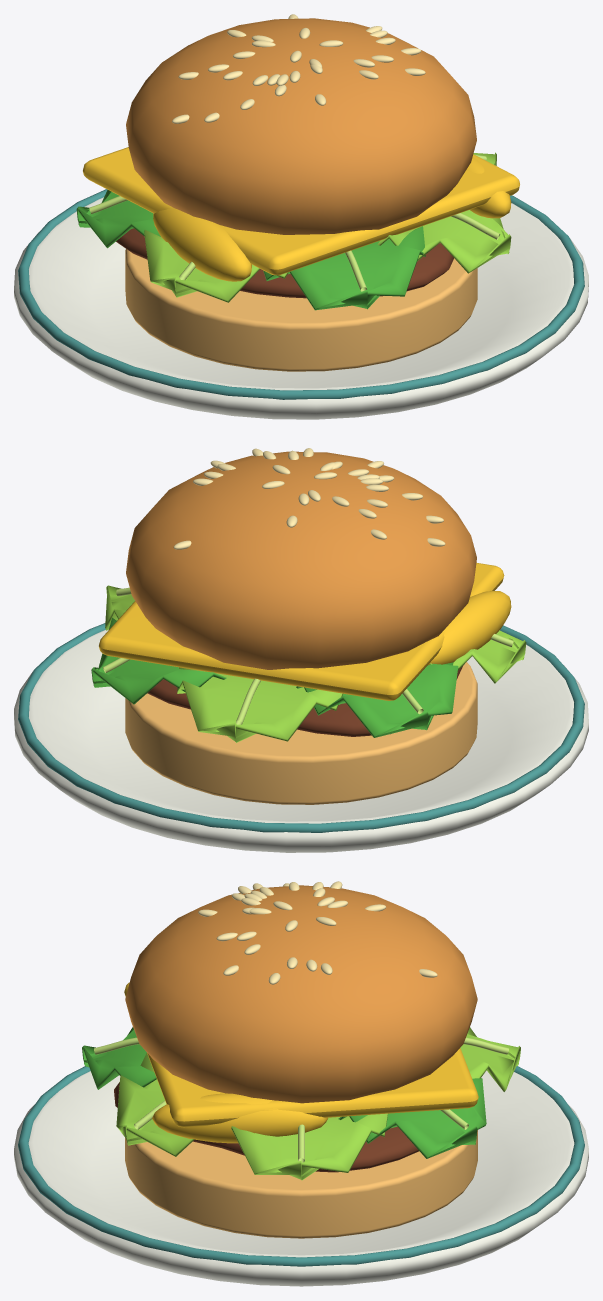
Rendered from smash-burger.glb.
3 views of the same model, one above another, from view 1: azimuth 30°, elevation 25°; view 2: azimuth 150°, elevation 25°; view 3: azimuth 270°, elevation 25° (orthographic).
Visible parts, largest first — view 1: smash-burger_mesh; view 2: smash-burger_mesh; view 3: smash-burger_mesh.
Part boxes in pixels (x1=…): smash-burger_mesh: x1=14, y1=14, x2=588, y2=419; smash-burger_mesh: x1=14, y1=448, x2=588, y2=852; smash-burger_mesh: x1=14, y1=881, x2=588, y2=1286.
Bounding box in the file's own units: 0.375 × 0.1991 × 0.375.
